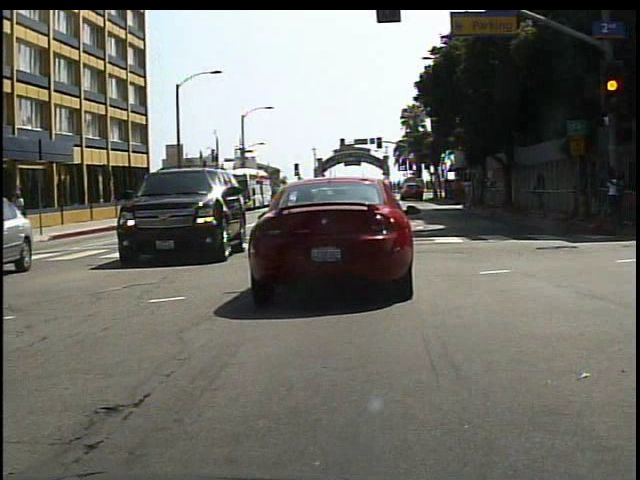person: (14, 188, 34, 238)
